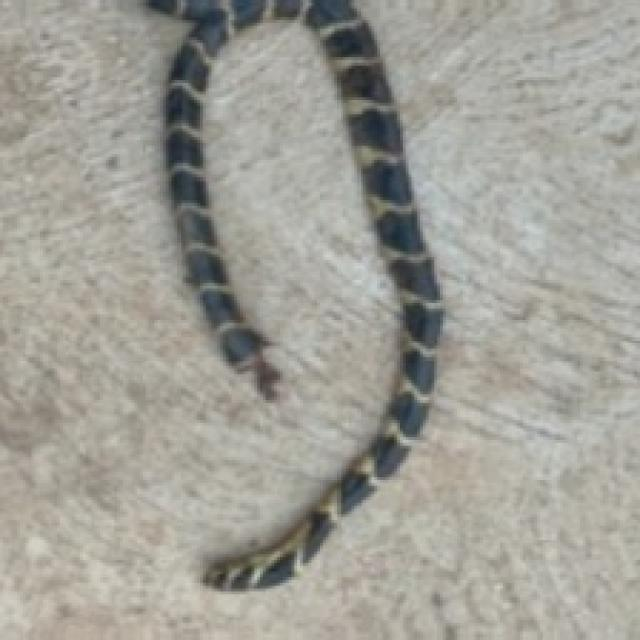king cobra: (149, 0, 440, 586)
